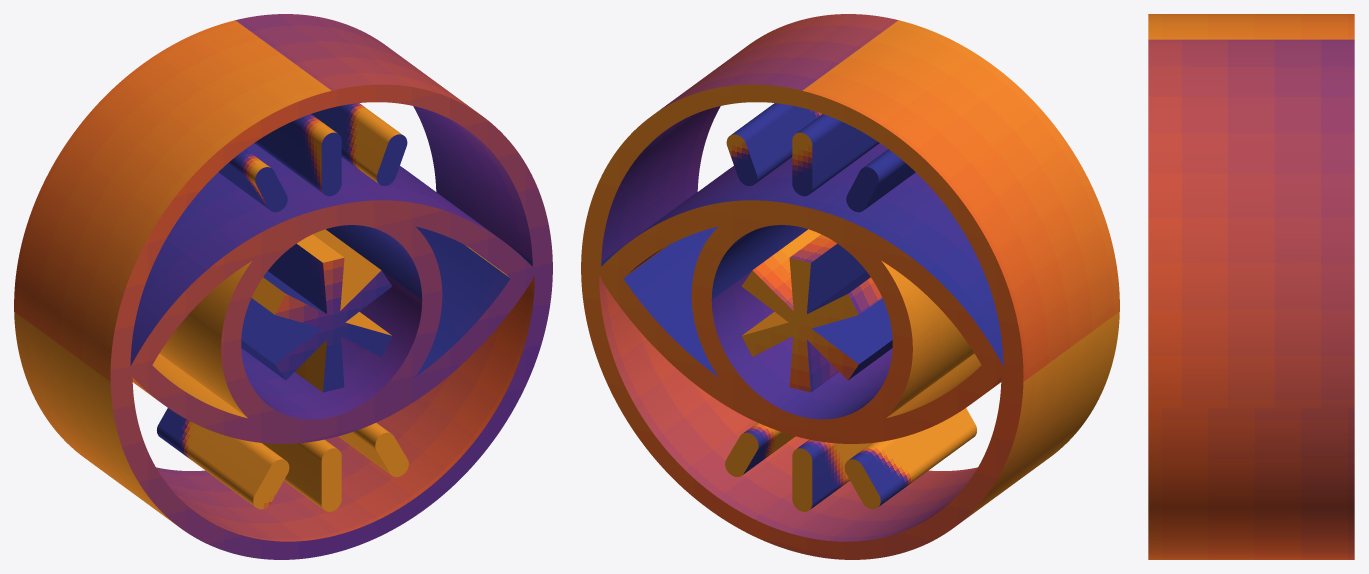
Rendered from Asset 3.gltf.
The picture shows the model from 3 angles, left to right: view 1: azimuth 30°, elevation 25°; view 2: azimuth 150°, elevation 25°; view 3: azimuth 270°, elevation 25°; orthographic projection. The views are drawn at different scales.
Size of the model in its own units: 0.0212 by 0.0212 by 0.008.
Materials: 8 (8 with a texture image).
